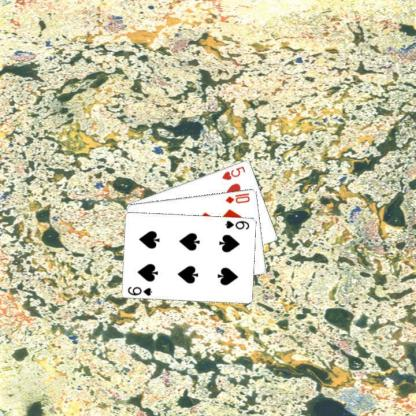10D: (223, 190, 251, 205)
5H: (219, 163, 247, 181)
6S: (222, 218, 251, 230), (125, 284, 153, 296)
